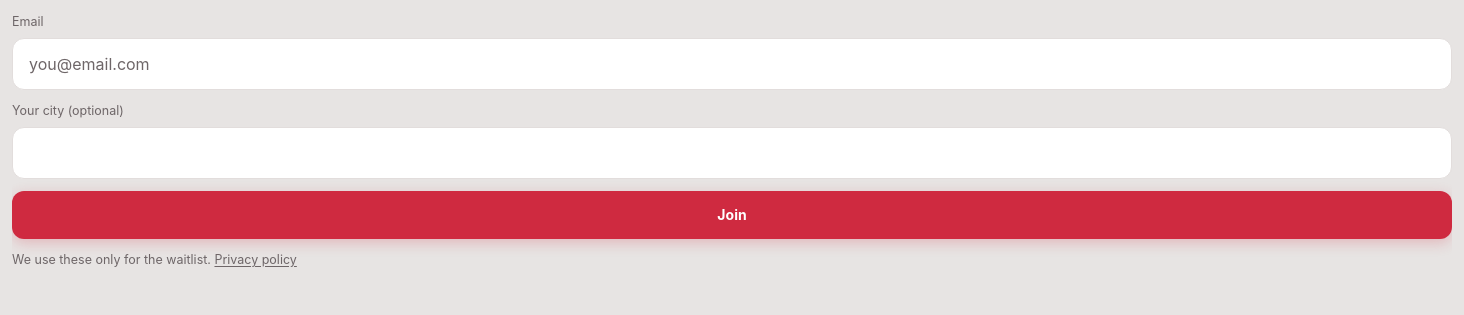
Test case: WaitlistForm › says it didn't go through when the network fails, and clears that on edit
Type "priya@example.com" into the field labelled "Email" at (732, 64), box [12,38,1452,90]
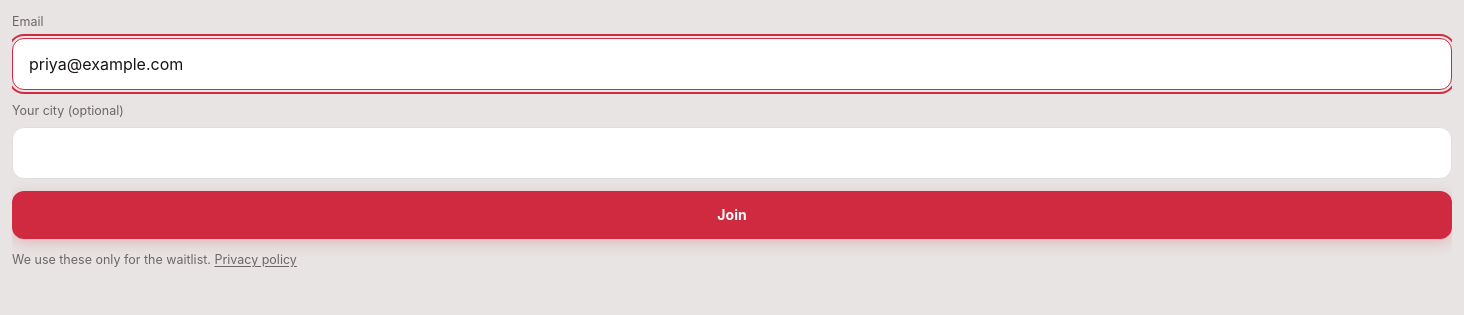
Click the button "Join" at (732, 215), box [12,191,1452,239]
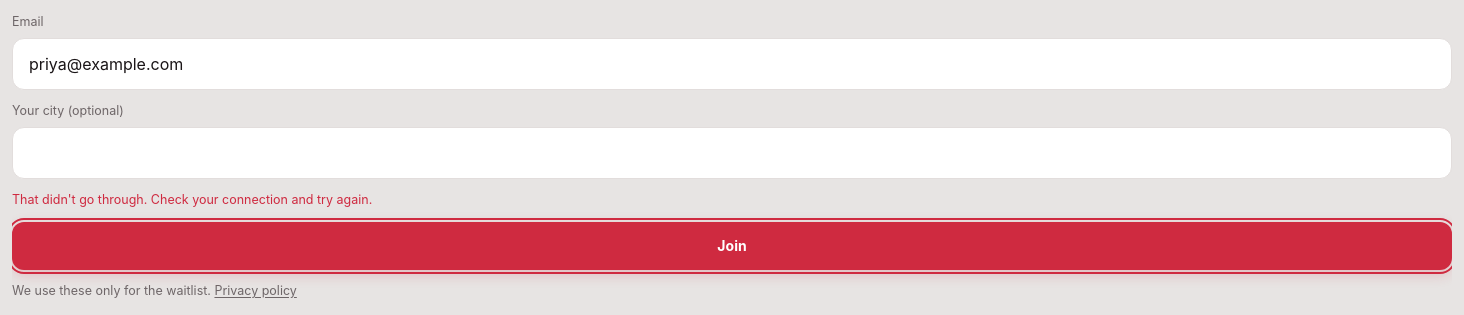
expect the message reads "That didn't go through. Check your connection and try again.": met, box [12,192,372,207]
Type "m" into the field labelled "Email" at (732, 64), box [12,38,1452,90]
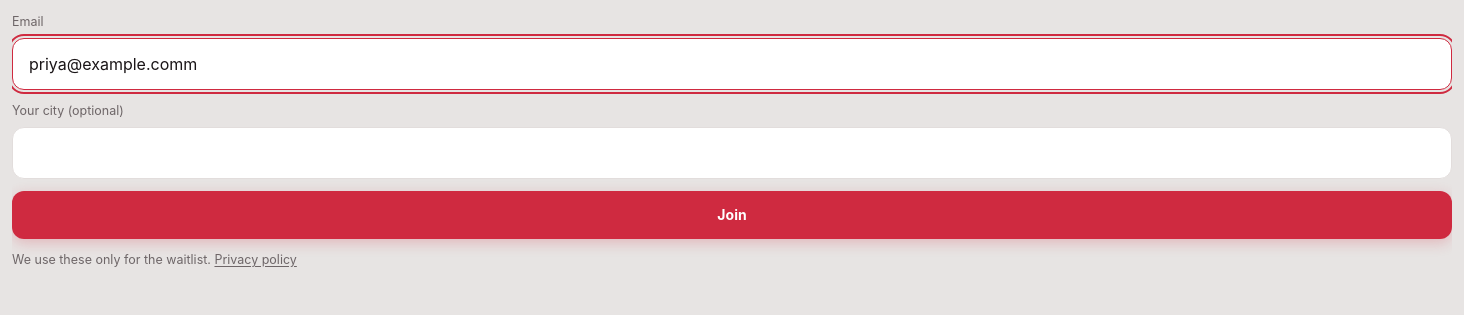
expect the message "That didn't go through. Check your connection and try again." is gone: met
